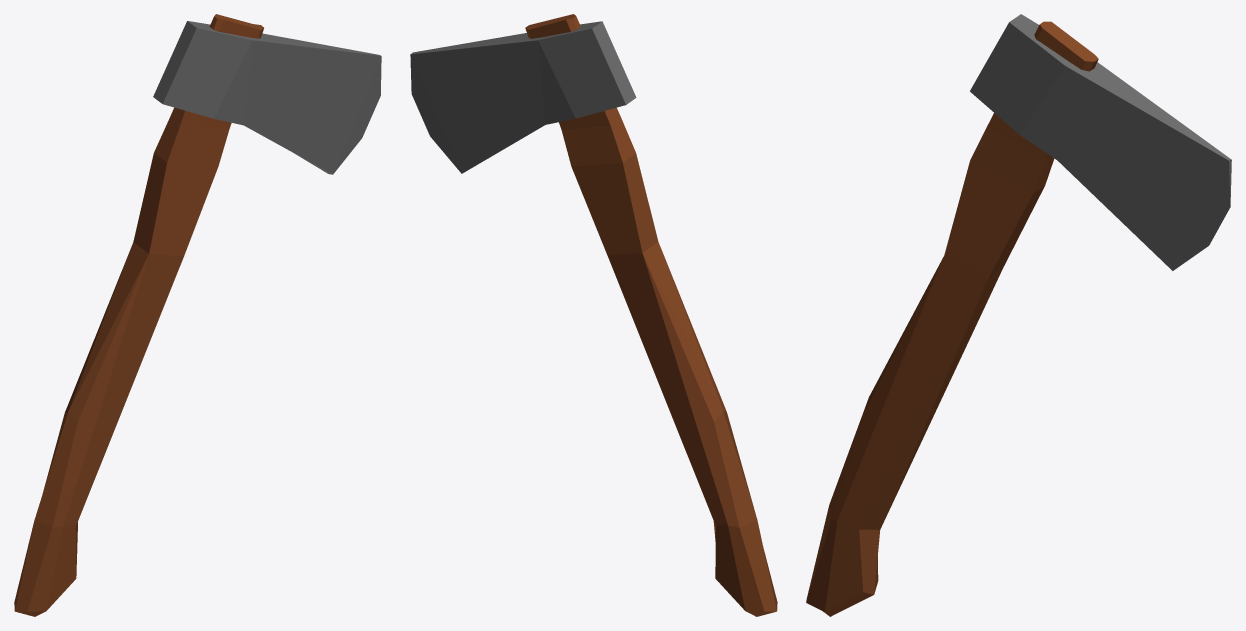
File: axe.fbx
3 renders of one model, left to right at view 1: azimuth 30°, elevation 25°; view 2: azimuth 150°, elevation 25°; view 3: azimuth 330°, elevation 25°, orthographic. The views are drawn at different scales.
Parts seen in each view (by area): view 1: Roundcube, Roundcube.001; view 2: Roundcube, Roundcube.001; view 3: Roundcube, Roundcube.001.
Part boxes in pixels (box(x1,y1,x2,y2)): Roundcube: box(14, 14, 263, 616); Roundcube.001: box(153, 21, 381, 174); Roundcube: box(525, 14, 777, 616); Roundcube.001: box(410, 21, 636, 173); Roundcube: box(806, 21, 1098, 616); Roundcube.001: box(970, 14, 1231, 270).
Bounding box in the file's own units: 127 × 185 × 13.51.
